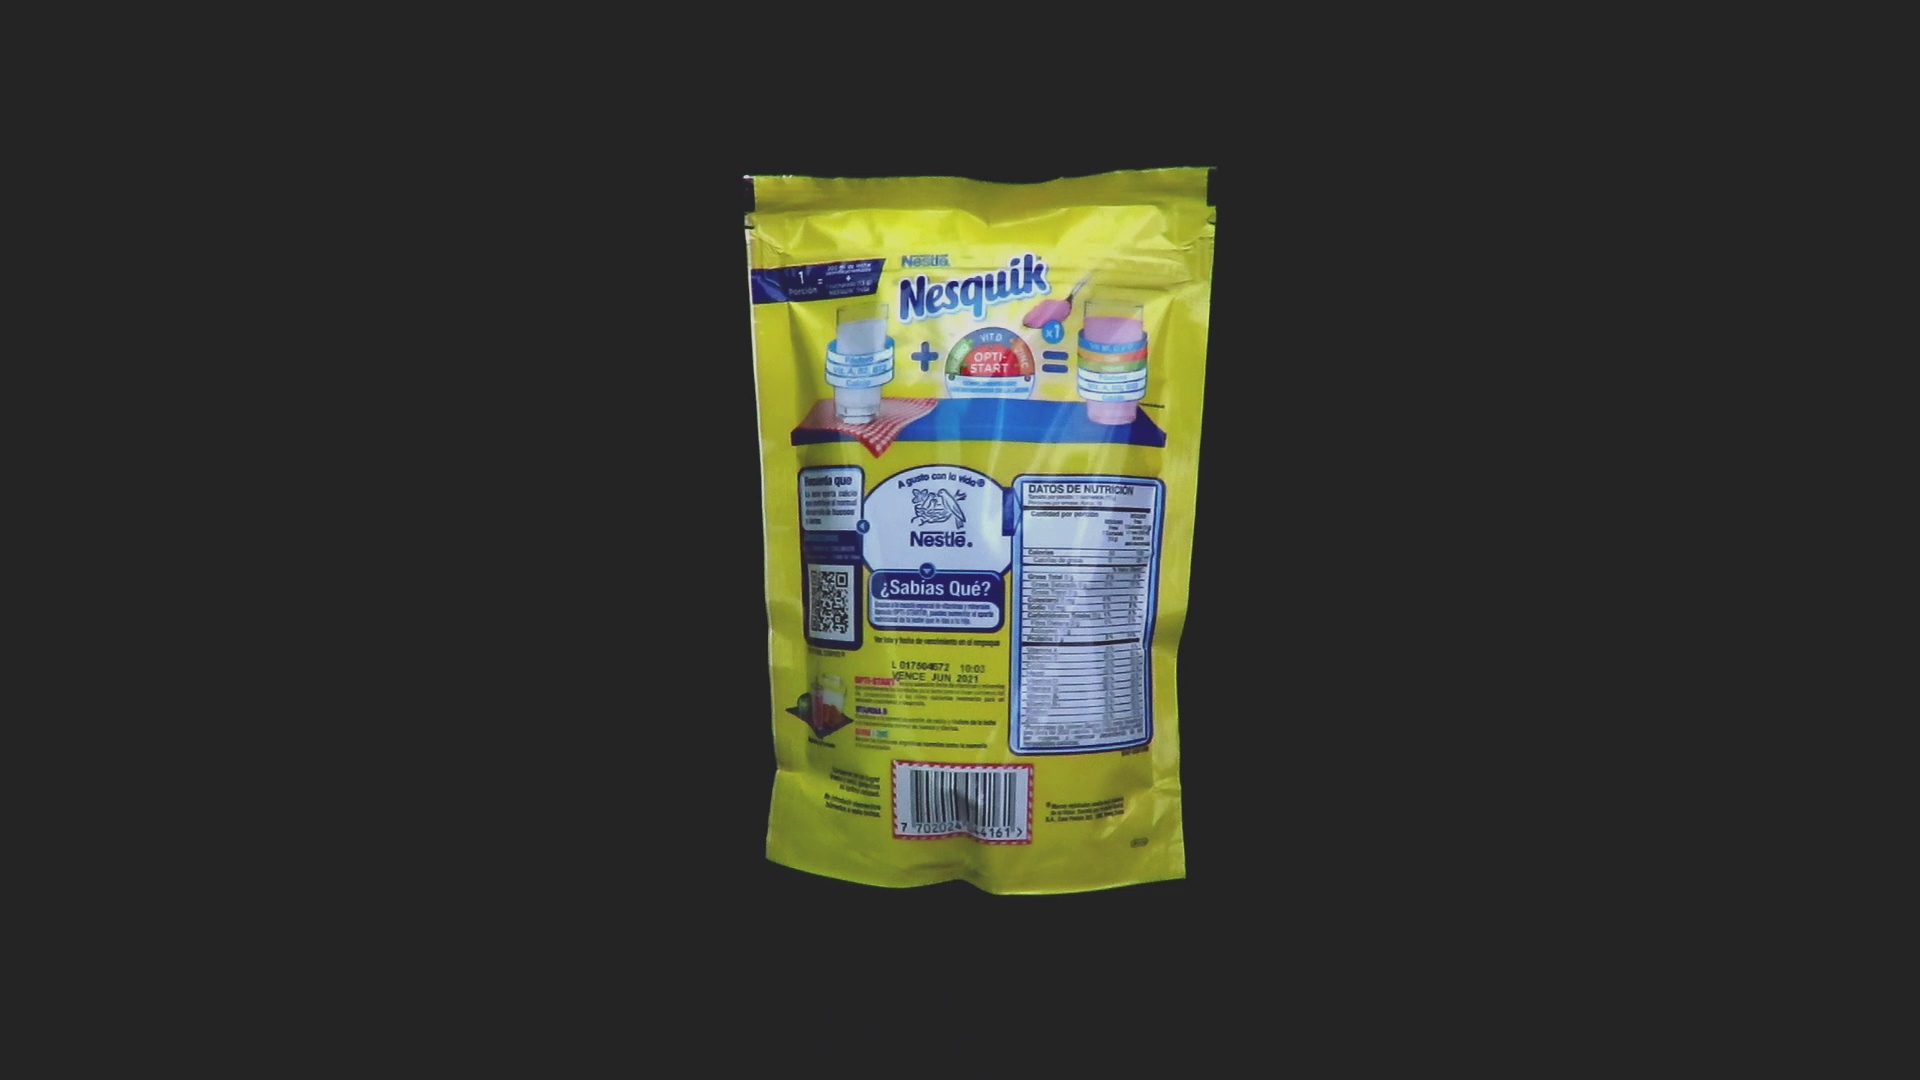COL0170305DYP20000: (738, 161, 1222, 901)
